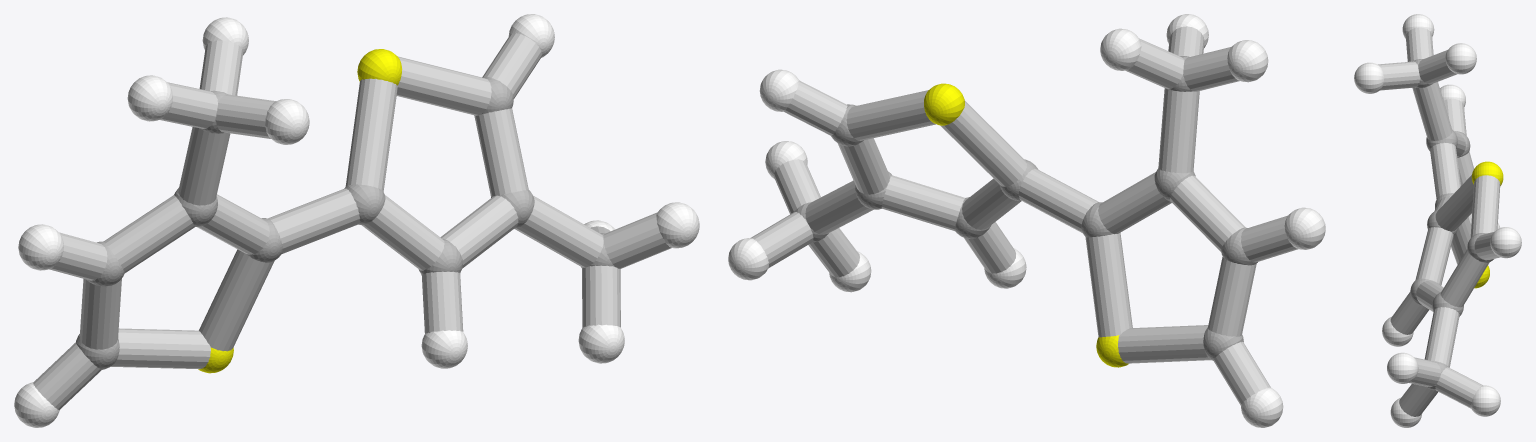
The model's file is Methylthiophene_Phi_20_Theta_320_Methylthiophene.glb.
3 views of the same model, side by side, from view 1: azimuth 30°, elevation 25°; view 2: azimuth 150°, elevation 25°; view 3: azimuth 270°, elevation 25° (orthographic). The views are drawn at different scales.
Visible parts, largest first — view 1: grp7965, grp3621, grp1, grp7241; view 2: grp7965, grp3621, grp1, grp7241; view 3: grp7965, grp3621, grp1, grp7241.
Boxes of the visible parts, box(x1,y1,x2,y2) form: grp7965: box(33, 33, 671, 410); grp3621: box(14, 14, 699, 427); grp1: box(76, 77, 614, 369); grp7241: box(198, 49, 402, 373); grp7965: box(750, 26, 1298, 405); grp3621: box(728, 14, 1325, 427); grp1: box(794, 56, 1257, 360); grp7241: box(924, 83, 1128, 367); grp7965: box(1378, 27, 1500, 416); grp3621: box(1354, 14, 1521, 427); grp1: box(1410, 59, 1493, 390); grp7241: box(1471, 161, 1503, 288).
Size of the model in its own units: 9.58 by 5.64 by 3.18.
